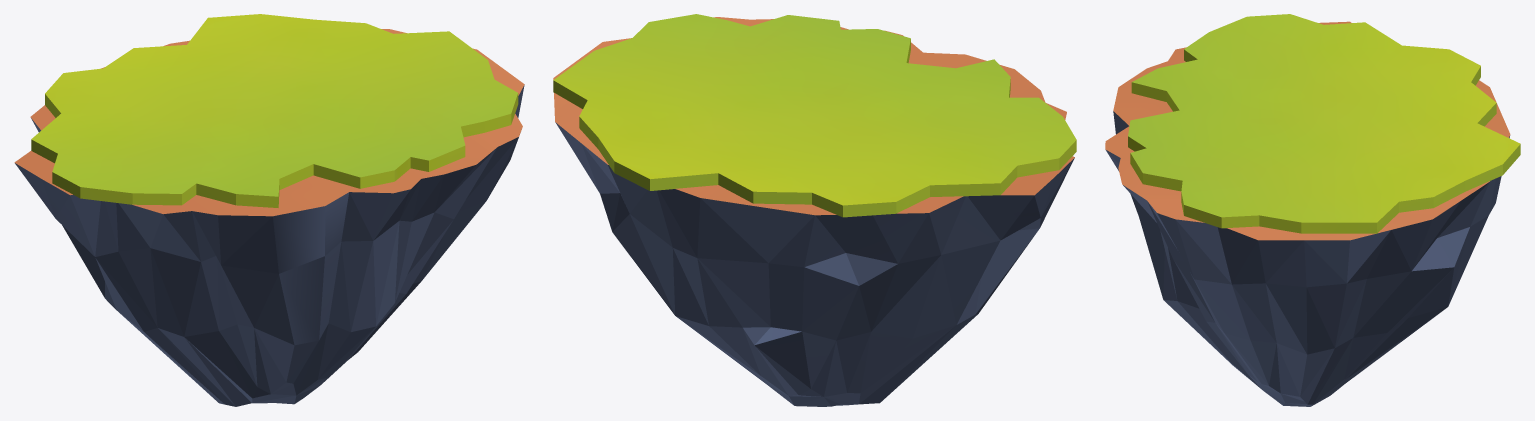
The model's file is Island.fbx.
3 renders of one model, left to right at view 1: azimuth 30°, elevation 25°; view 2: azimuth 150°, elevation 25°; view 3: azimuth 270°, elevation 25°, orthographic. The views are drawn at different scales.
Visible parts, largest first — view 1: Island; view 2: Island; view 3: Island.
Boxes of the visible parts, x1=… form: Island: x1=14, y1=14, x2=524, y2=406; Island: x1=553, y1=14, x2=1076, y2=406; Island: x1=1105, y1=14, x2=1520, y2=406.
Size of the model in its own units: 1529 by 907 by 1228.
